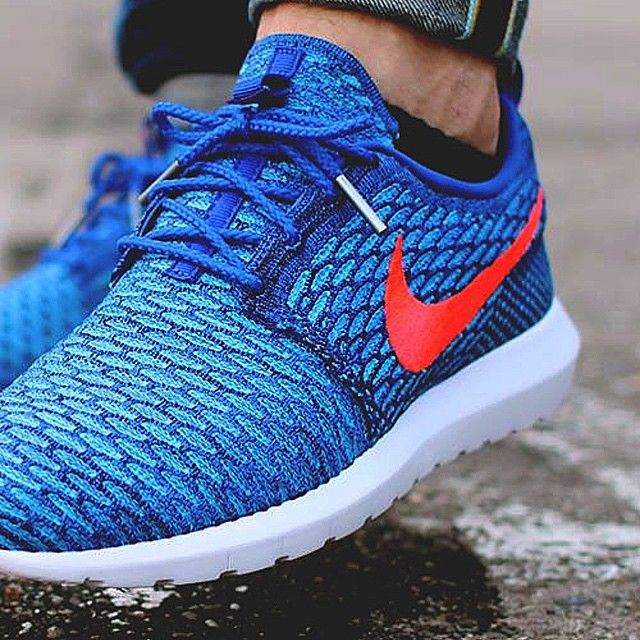sneaker: (1, 20, 611, 618)
